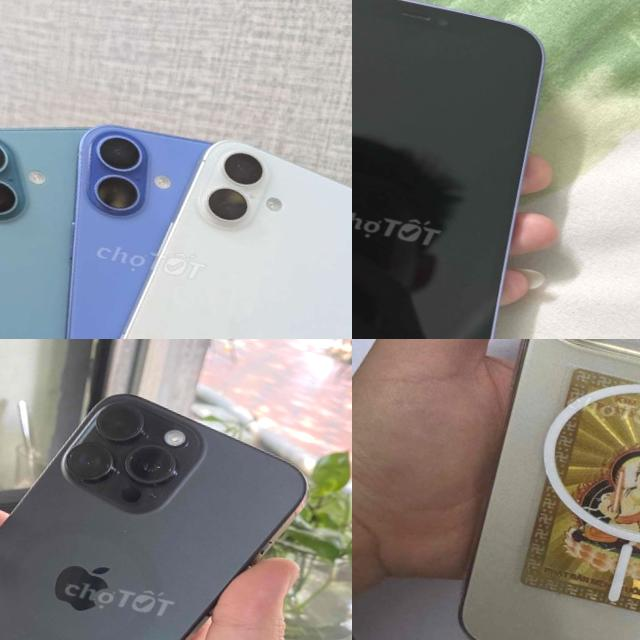gen_12_13: (352, 0, 573, 339)
gen_14: (435, 339, 640, 640)
gen_15: (0, 345, 332, 640)
gen_16: (74, 122, 352, 339)
